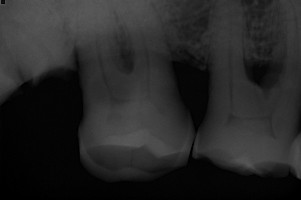Endo-Periodontal Lesion: (243, 55, 286, 95), (113, 25, 136, 74)
